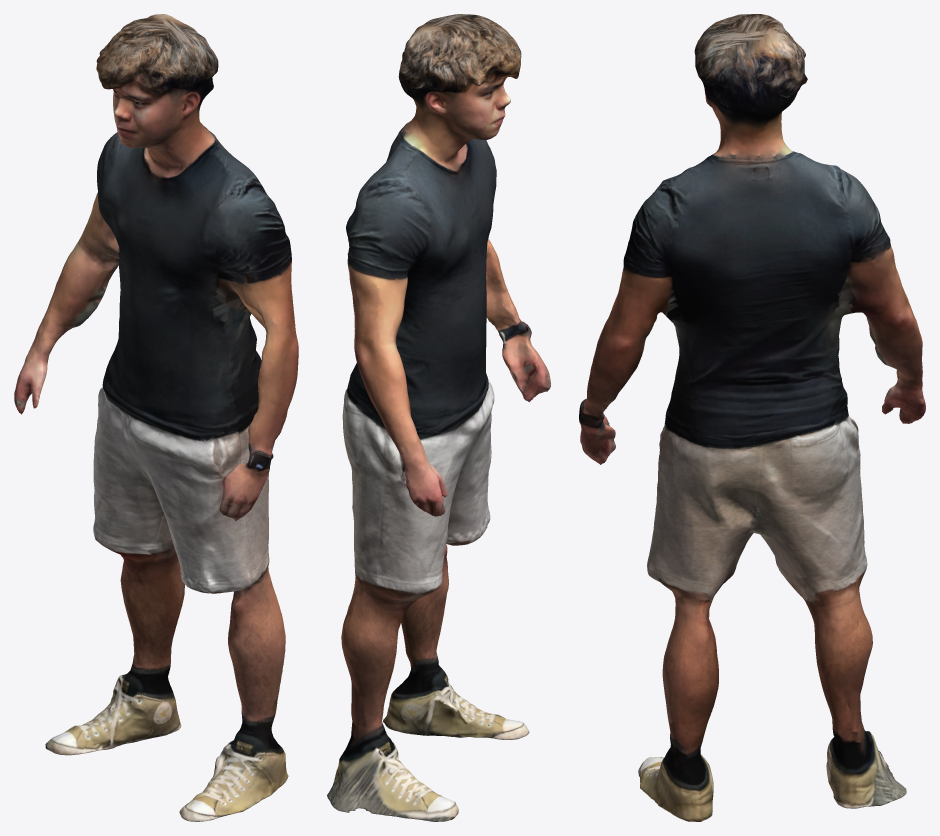
Rendered from person_improved.glb.
3 views of the same model, side by side, from view 1: azimuth 30°, elevation 25°; view 2: azimuth 150°, elevation 25°; view 3: azimuth 270°, elevation 25° (orthographic).
Visible parts, largest first — view 1: person; view 2: person; view 3: person.
Boxes of the visible parts, x1=… form: person: x1=14, y1=14, x2=298, y2=821; person: x1=327, y1=14, x2=550, y2=821; person: x1=579, y1=14, x2=925, y2=821.
Bounding box in the file's own units: 0.2296 × 0.999 × 0.4187.
1 material, 1 textured.
